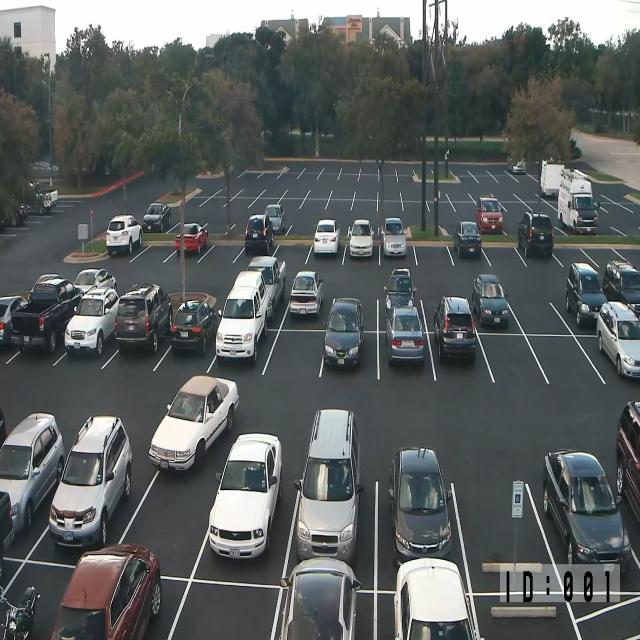car: (48, 414, 132, 548), (542, 448, 631, 572), (294, 407, 364, 564), (50, 543, 162, 639), (208, 432, 282, 560), (148, 374, 240, 472), (0, 411, 65, 539), (388, 445, 452, 566), (394, 556, 484, 640), (270, 556, 361, 639), (11, 273, 84, 354), (215, 270, 270, 362), (114, 282, 172, 354), (64, 285, 119, 356), (596, 301, 640, 378), (615, 399, 640, 524), (323, 296, 365, 368), (433, 295, 476, 363), (565, 261, 607, 327), (170, 298, 217, 356), (246, 256, 286, 322), (558, 170, 598, 235), (384, 304, 424, 365), (0, 584, 41, 640), (602, 259, 640, 317), (472, 274, 509, 327), (517, 210, 554, 258), (289, 270, 323, 318), (383, 267, 417, 314), (106, 214, 142, 255), (0, 294, 26, 346), (0, 489, 15, 576), (73, 268, 118, 296), (244, 213, 274, 253), (174, 222, 208, 254), (347, 218, 374, 258), (454, 220, 482, 258), (475, 196, 503, 234), (313, 218, 341, 255), (381, 216, 406, 257), (142, 202, 171, 232), (264, 203, 286, 235), (30, 160, 58, 172), (0, 407, 7, 452), (16, 203, 28, 224), (512, 158, 526, 174)
